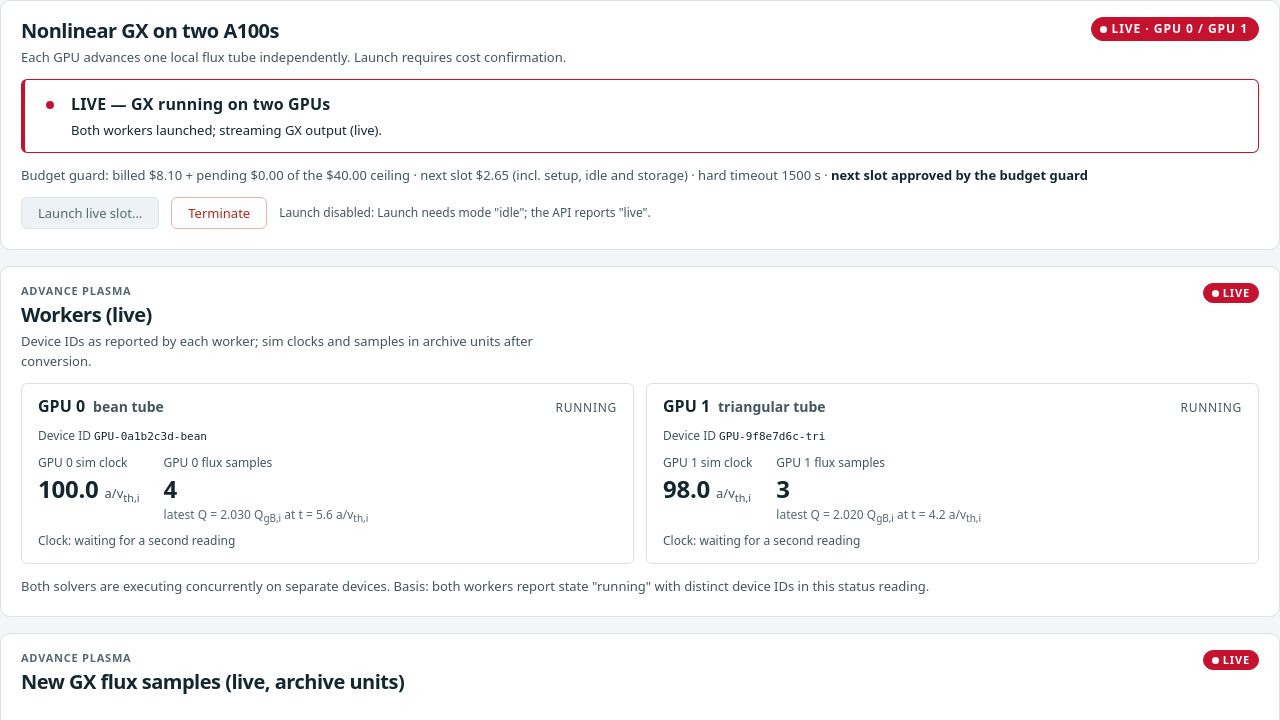
Scenario: L10 FA-2 a Terminate answer that says ok but carries a not-confirmed reason is never shown as terminated
This screenshot has width=1280, height=720.
Click the button "Terminate" at (219, 213), box [171,197,267,229]
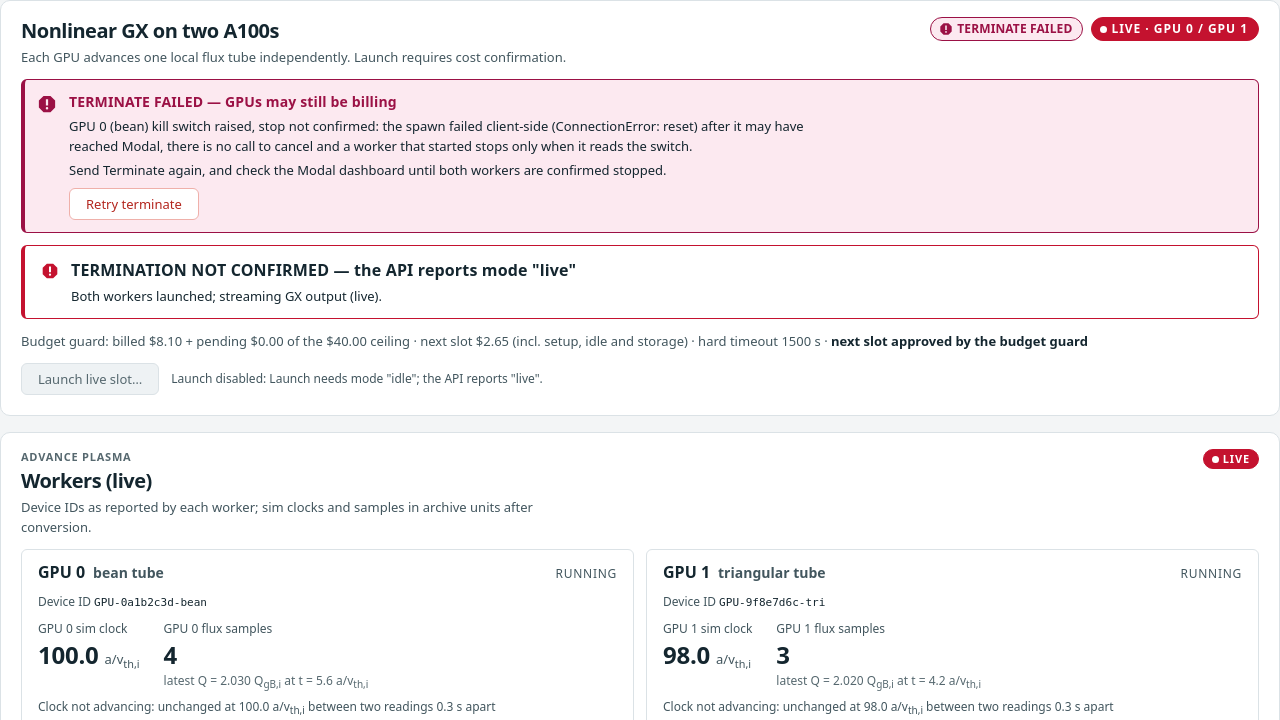
Expected: the button "Retry terminate" is enabled, [69,188,199,220]
Expected: the text with class "lab-alert__reason" shows "GPU 0 (bean) kill switch raised, stop not confirmed: the spawn failed client-side (ConnectionError: reset) after it may have reached Modal, there is no call to", [69,117,807,155]
